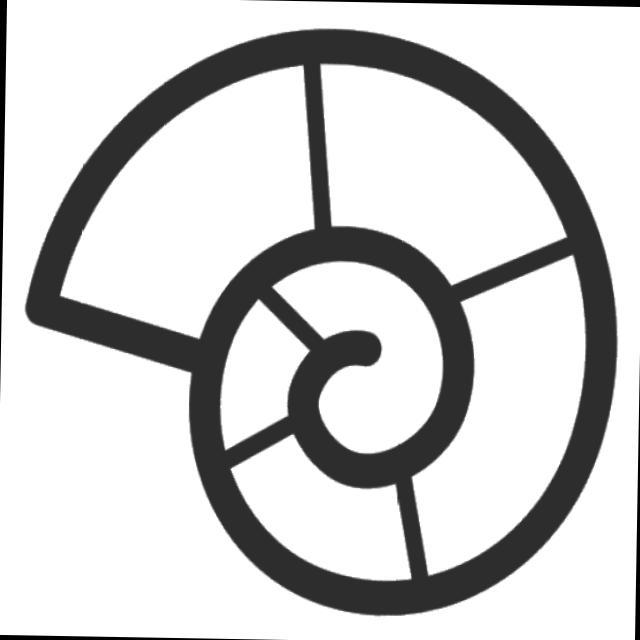fossil: (15, 13, 633, 629)
